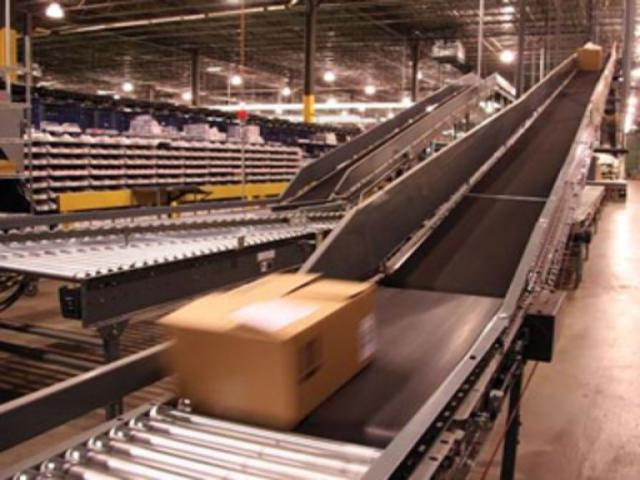conveyor: (0, 38, 624, 479)
